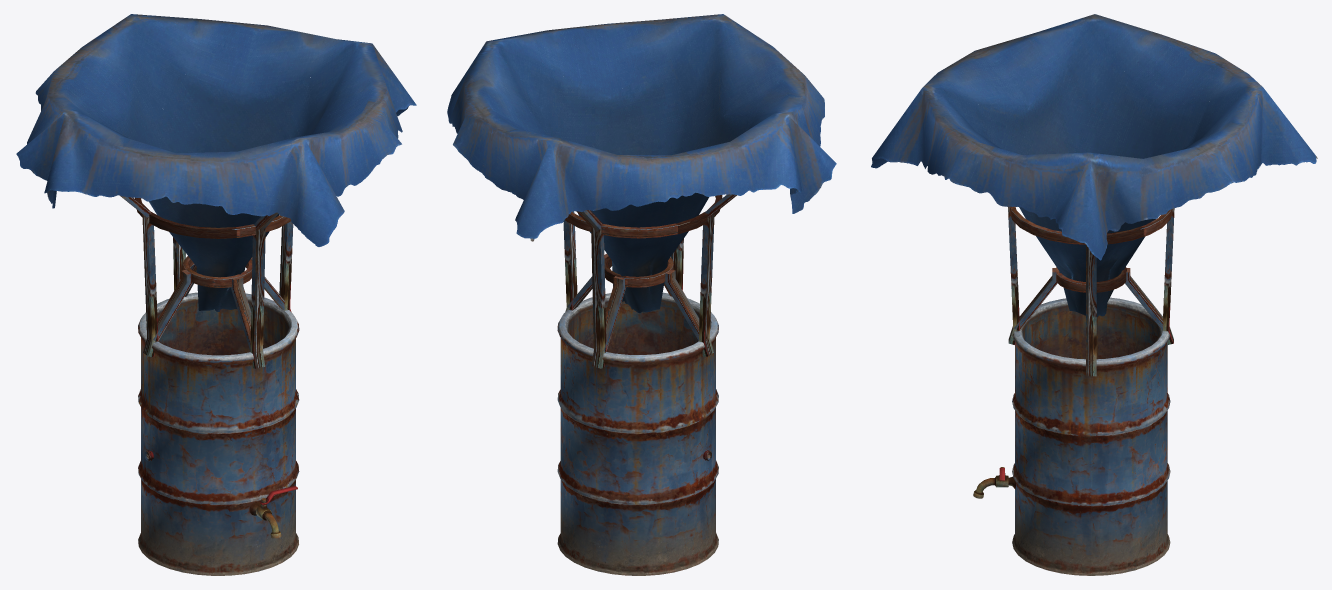
The model's file is water_catcher_small_LOD0.fbx.
The picture shows the model from 3 angles, left to right: view 1: azimuth 30°, elevation 25°; view 2: azimuth 150°, elevation 25°; view 3: azimuth 270°, elevation 25°; orthographic projection. The views are drawn at different scales.
Visible parts, largest first — view 1: water_catcher_small_LOD0; view 2: water_catcher_small_LOD0; view 3: water_catcher_small_LOD0.
Boxes of the visible parts, x1,y1,x2,y2 form: water_catcher_small_LOD0: [16, 14, 416, 575]; water_catcher_small_LOD0: [447, 14, 836, 575]; water_catcher_small_LOD0: [871, 14, 1317, 575].
Size of the model in its own units: 223 by 266 by 236.
